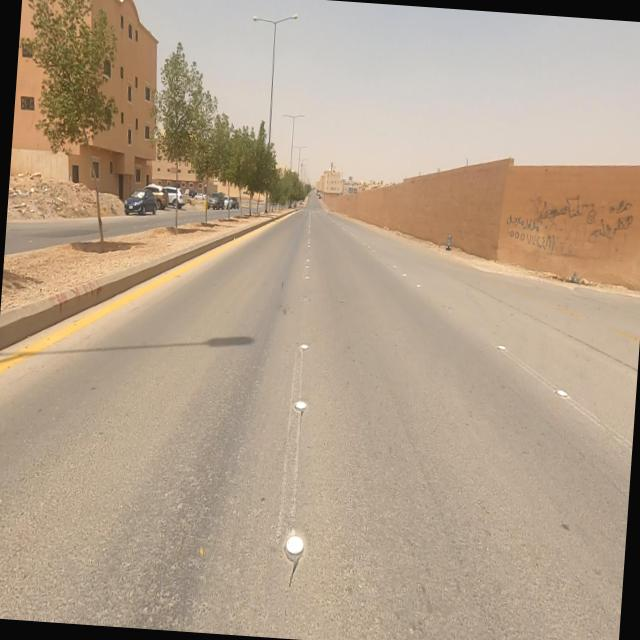Graffiti: (506, 191, 636, 260)
